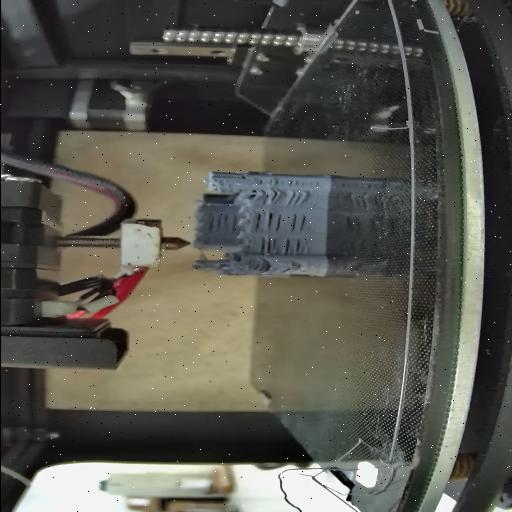cracks: (206, 212, 239, 238), (252, 211, 282, 233), (257, 178, 319, 188), (285, 213, 309, 234), (257, 190, 284, 208), (280, 236, 306, 254), (255, 236, 277, 256), (288, 191, 310, 208), (251, 262, 272, 278), (280, 266, 298, 278), (234, 176, 250, 180)
